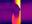Hotspot: (15, 0, 21, 8)
